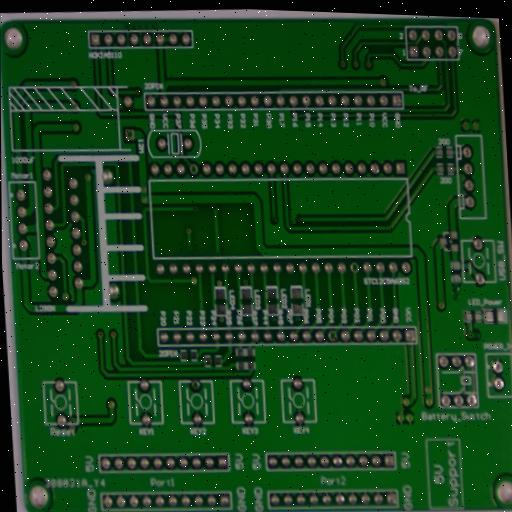missing_hole: (188, 160, 201, 179), (326, 328, 339, 344), (349, 259, 362, 275), (190, 378, 203, 394), (123, 127, 136, 142)
